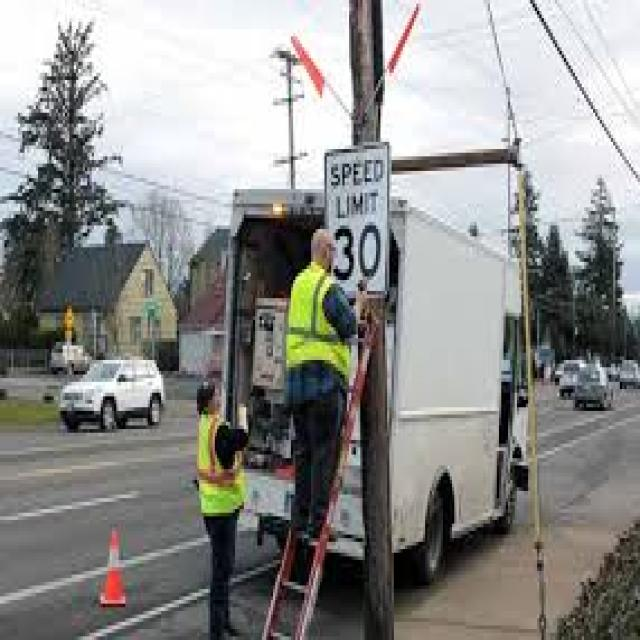speedLimit30: (323, 146, 386, 294)
